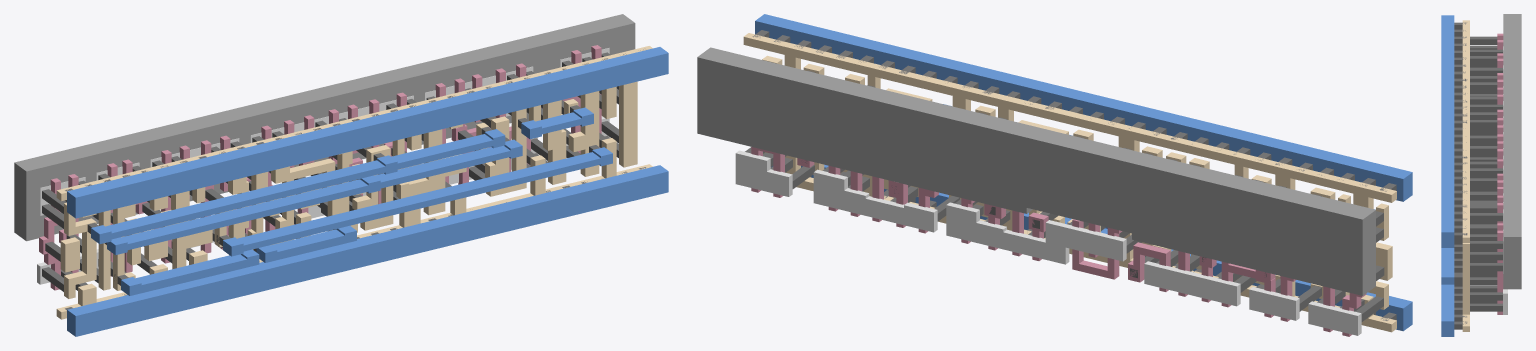
File: sky130_fd_sc_hd__sedfxbp_1.gds.gltf
The picture shows the model from 3 angles, left to right: view 1: azimuth 30°, elevation 25°; view 2: azimuth 150°, elevation 25°; view 3: azimuth 270°, elevation 25°; orthographic projection. The views are drawn at different scales.
Parts seen in each view (by area): view 1: sky130_fd_sc_hd__sedfxbp_1_met1, sky130_fd_sc_hd__sedfxbp_1_li1, sky130_fd_sc_hd__sedfxbp_1_nwell, sky130_fd_sc_hd__sedfxbp_1_poly, sky130_fd_sc_hd__sedfxbp_1_licon, sky130_fd_sc_hd__sedfxbp_1_diff, sky130_fd_sc_hd__sedfxbp_1_mcon; view 2: sky130_fd_sc_hd__sedfxbp_1_nwell, sky130_fd_sc_hd__sedfxbp_1_li1, sky130_fd_sc_hd__sedfxbp_1_met1, sky130_fd_sc_hd__sedfxbp_1_diff, sky130_fd_sc_hd__sedfxbp_1_poly, sky130_fd_sc_hd__sedfxbp_1_licon, sky130_fd_sc_hd__sedfxbp_1_mcon; view 3: sky130_fd_sc_hd__sedfxbp_1_licon, sky130_fd_sc_hd__sedfxbp_1_nwell, sky130_fd_sc_hd__sedfxbp_1_met1, sky130_fd_sc_hd__sedfxbp_1_mcon, sky130_fd_sc_hd__sedfxbp_1_li1, sky130_fd_sc_hd__sedfxbp_1_poly, sky130_fd_sc_hd__sedfxbp_1_diff.
Part boxes in pixels (x1,y1,x2,y2): sky130_fd_sc_hd__sedfxbp_1_met1: (67, 47, 668, 336); sky130_fd_sc_hd__sedfxbp_1_li1: (56, 46, 652, 319); sky130_fd_sc_hd__sedfxbp_1_nwell: (14, 14, 635, 241); sky130_fd_sc_hd__sedfxbp_1_poly: (39, 45, 601, 290); sky130_fd_sc_hd__sedfxbp_1_licon: (42, 52, 618, 291); sky130_fd_sc_hd__sedfxbp_1_diff: (37, 48, 609, 284); sky130_fd_sc_hd__sedfxbp_1_mcon: (65, 49, 645, 310); sky130_fd_sc_hd__sedfxbp_1_nwell: (697, 47, 1375, 295); sky130_fd_sc_hd__sedfxbp_1_li1: (743, 33, 1396, 332); sky130_fd_sc_hd__sedfxbp_1_met1: (755, 14, 1412, 331); sky130_fd_sc_hd__sedfxbp_1_diff: (735, 150, 1361, 335); sky130_fd_sc_hd__sedfxbp_1_poly: (751, 147, 1366, 336); sky130_fd_sc_hd__sedfxbp_1_licon: (745, 70, 1384, 321); sky130_fd_sc_hd__sedfxbp_1_mcon: (752, 30, 1396, 320); sky130_fd_sc_hd__sedfxbp_1_licon: (1470, 36, 1502, 311); sky130_fd_sc_hd__sedfxbp_1_nwell: (1503, 14, 1521, 289); sky130_fd_sc_hd__sedfxbp_1_met1: (1441, 15, 1454, 336); sky130_fd_sc_hd__sedfxbp_1_mcon: (1454, 22, 1467, 329); sky130_fd_sc_hd__sedfxbp_1_li1: (1462, 20, 1469, 331); sky130_fd_sc_hd__sedfxbp_1_poly: (1497, 33, 1503, 314); sky130_fd_sc_hd__sedfxbp_1_diff: (1503, 46, 1507, 314).
Bounding box in the file's own units: 14.64 × 3.2 × 2.24.
